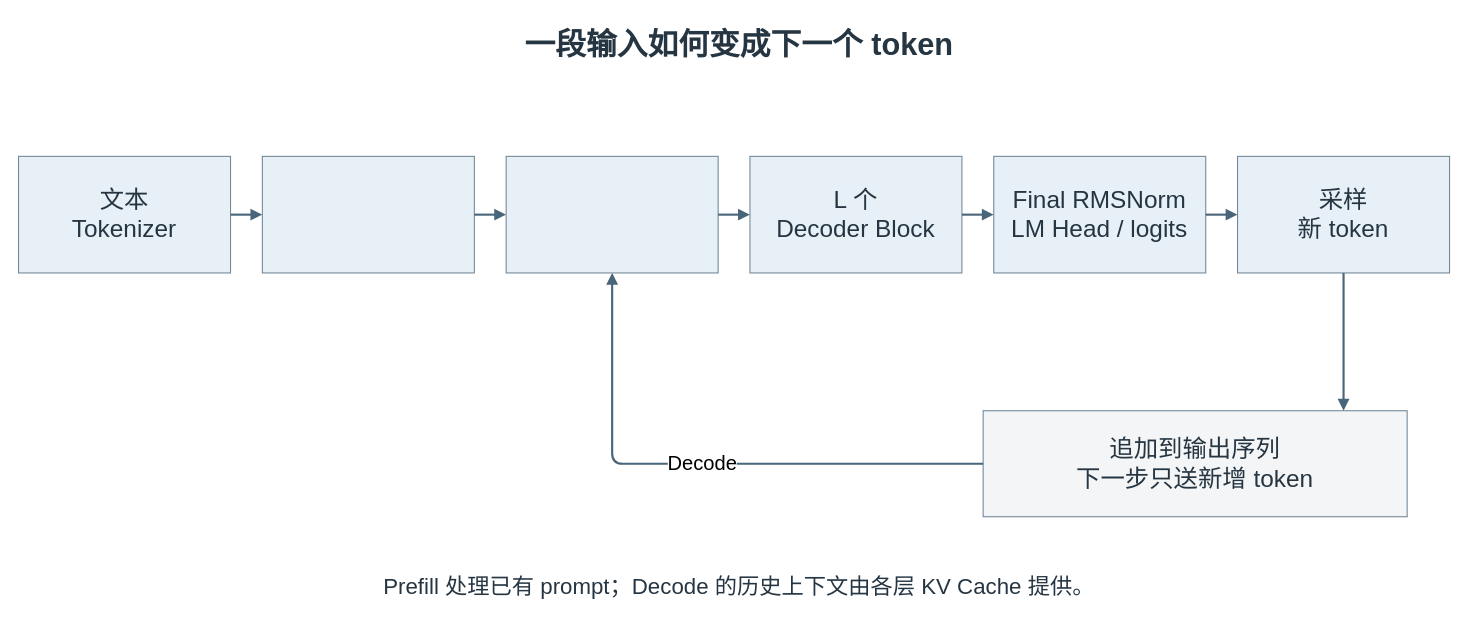
This 1479x630 diagram has some shape labels left out. Here are the shapes that lost their labels. From the top down, the box of each, then its label:
(261, 155, 474, 273): Token IDs
(505, 155, 718, 273): Embedding
